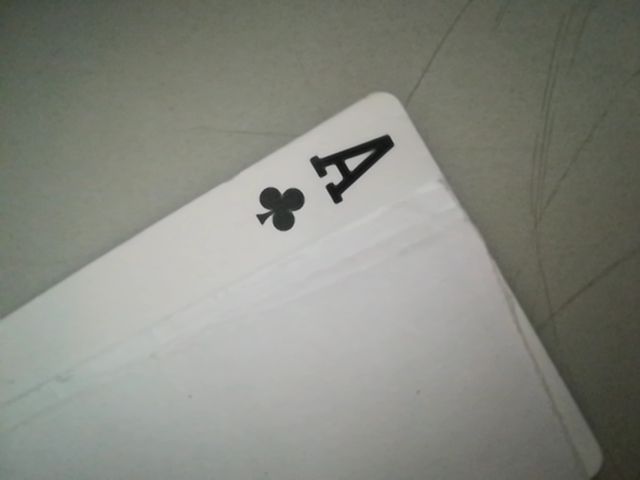mh a: (230, 127, 412, 238)
